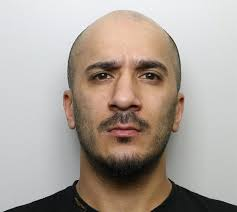asian_male: (71, 17, 180, 169)
